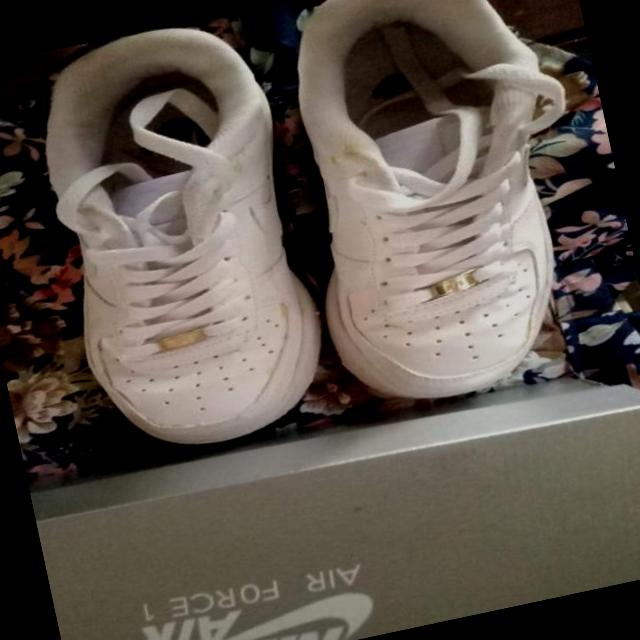nike_fake_airforce: (254, 0, 611, 421), (17, 9, 344, 468)
